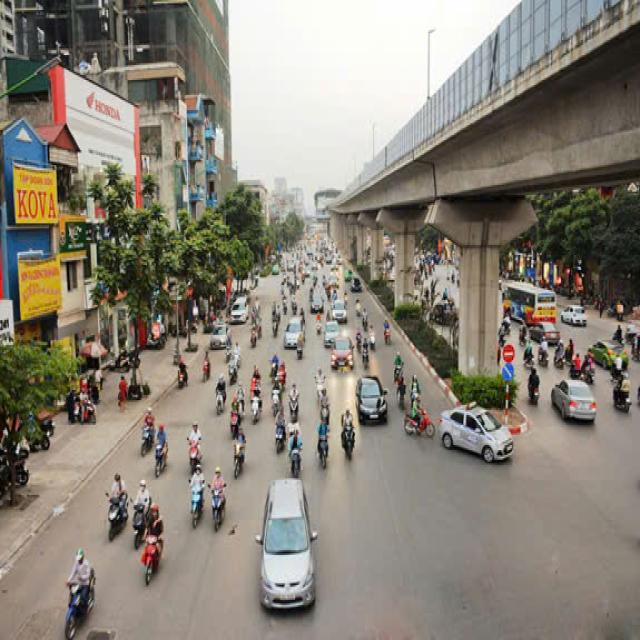car: (258, 476, 318, 616), (439, 388, 517, 482), (552, 375, 600, 429), (356, 371, 389, 429), (328, 331, 354, 373), (284, 314, 306, 352), (210, 319, 231, 354), (230, 292, 250, 326)
motobyte: (55, 541, 100, 640), (140, 502, 170, 592), (102, 467, 130, 547), (131, 474, 156, 552), (401, 397, 437, 446), (208, 461, 228, 536), (287, 416, 307, 480), (187, 464, 206, 529), (230, 422, 250, 482), (339, 406, 359, 462), (315, 408, 331, 476), (185, 417, 204, 474), (152, 421, 170, 480), (138, 401, 155, 460), (524, 363, 542, 407), (314, 367, 331, 410), (250, 379, 265, 427), (274, 401, 287, 455), (174, 350, 190, 393), (287, 377, 300, 429), (214, 373, 228, 417), (200, 343, 214, 384), (382, 309, 394, 353)
